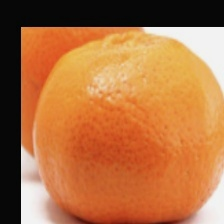orange: (0, 15, 189, 208)
